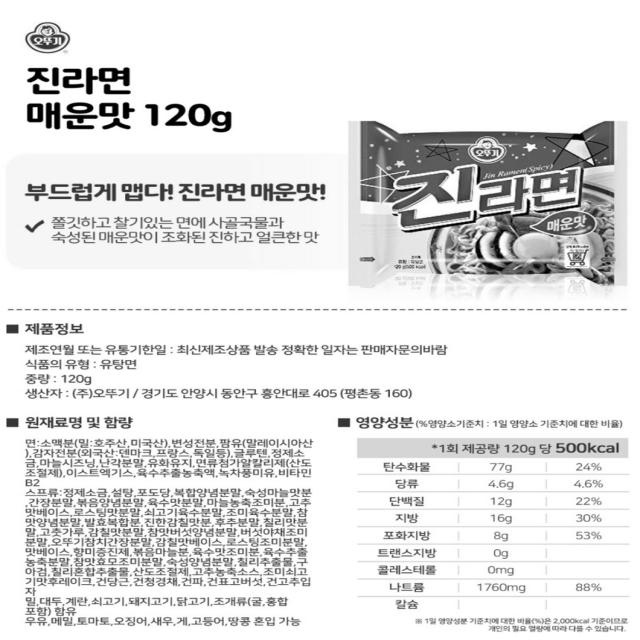Nutrition Label: (331, 408, 634, 640)
